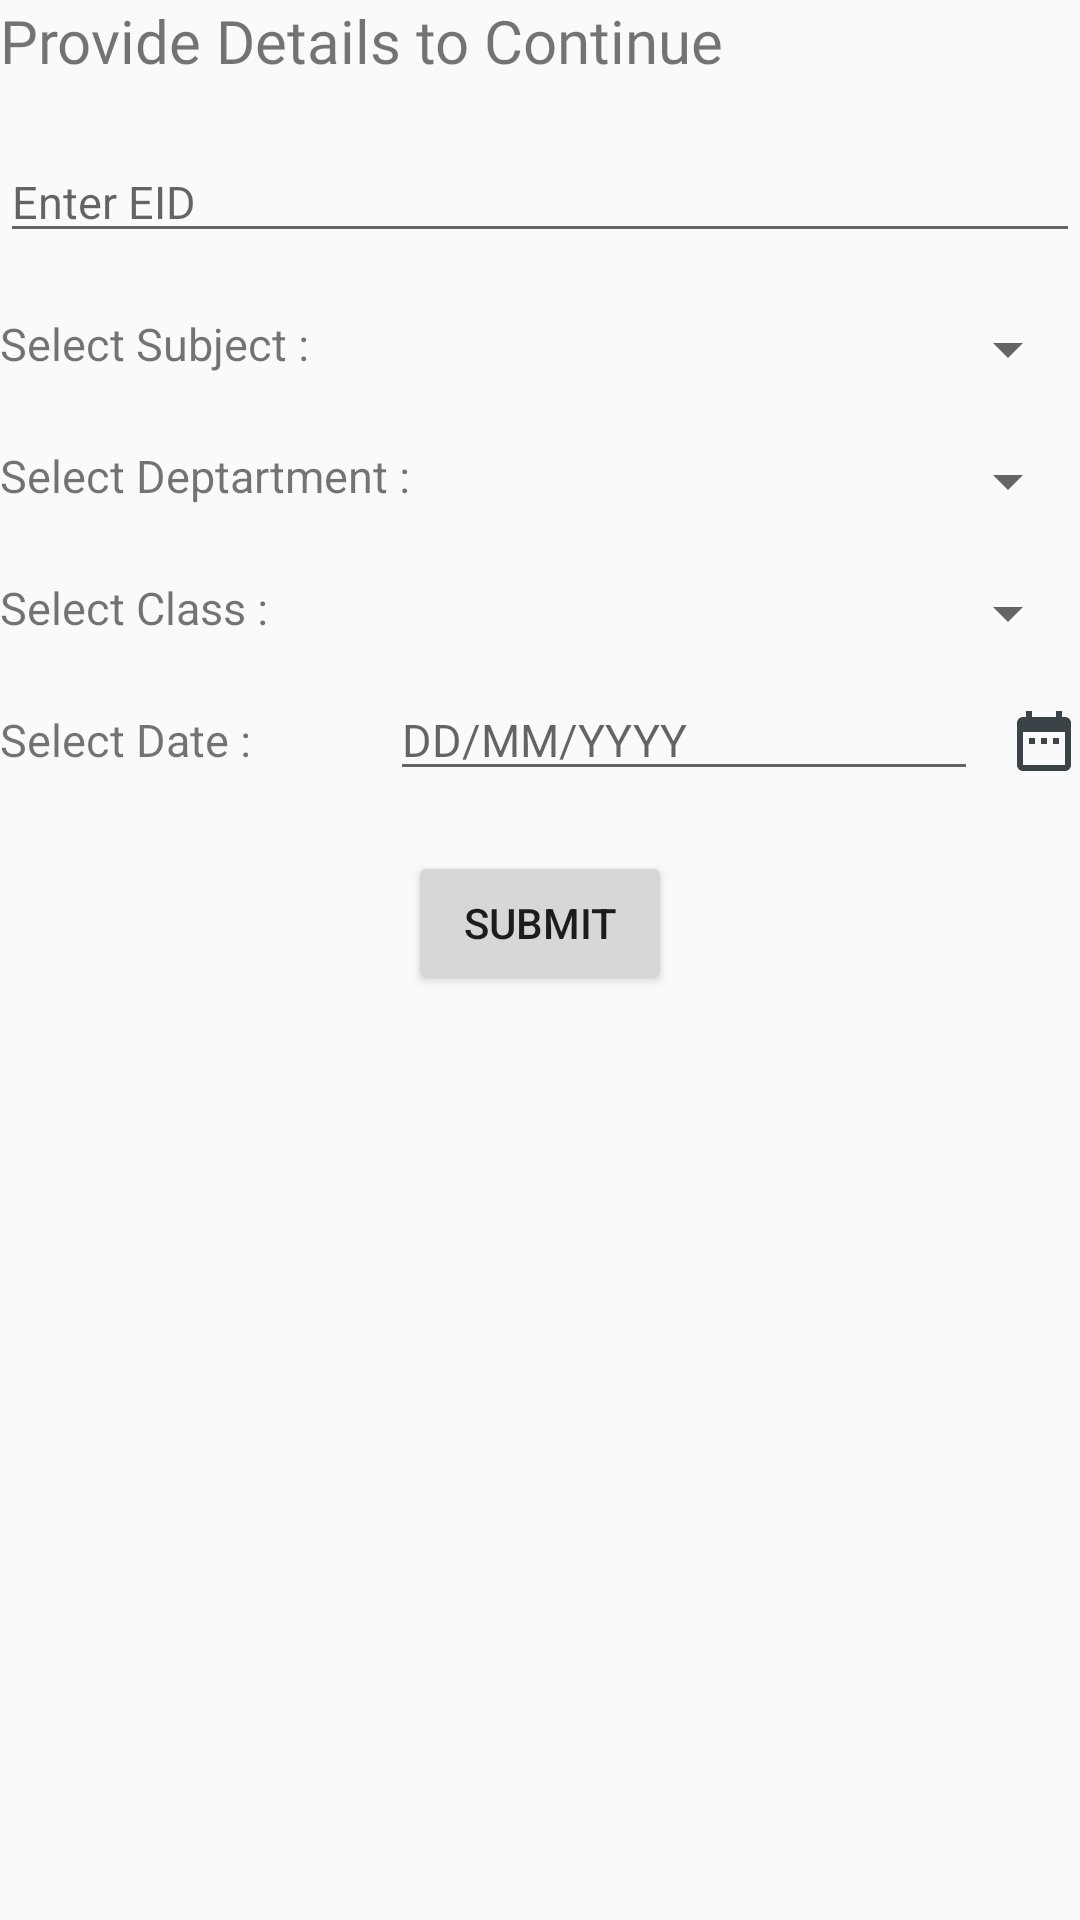

Where icons sit on this 1080*1920 app screen, as (x1, y1, x2, y2):
date range: (1017, 711, 1071, 771)
